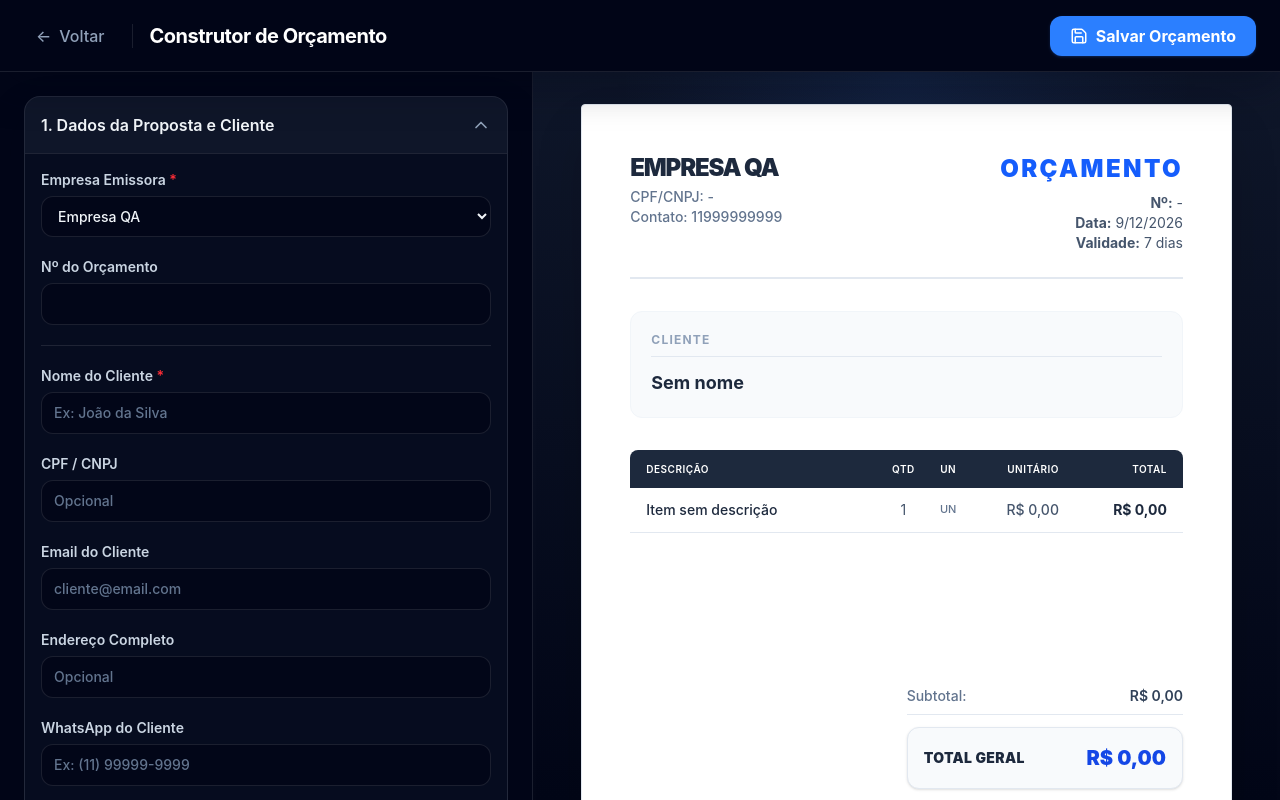
Test: BudgetPage validation flows › blocks saving when all items are removed
Step 1. Type "Cliente QA" into the field labelled "Nome do Cliente *" → (266, 413), box [41,392,491,434]
(page scrolled)
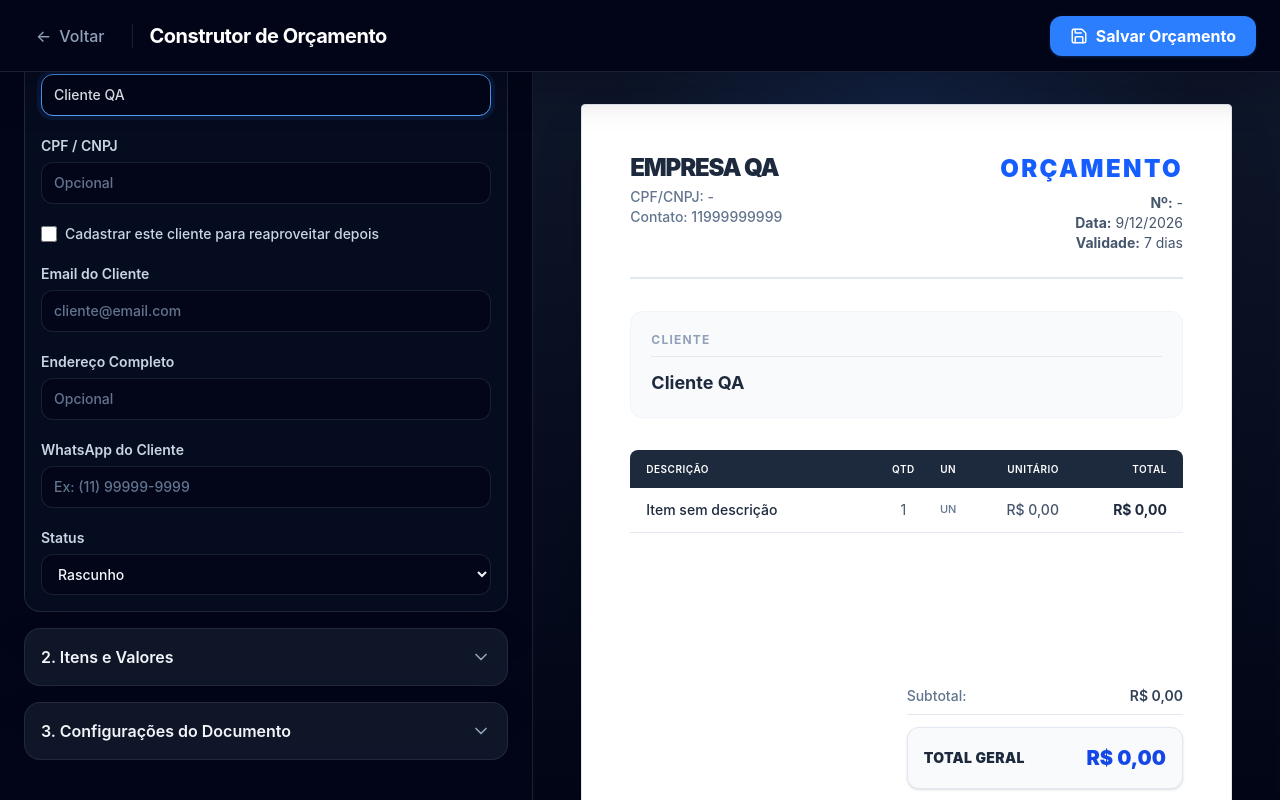
Step 2. Click the button "2. Itens e Valores" → (107, 657), box [25,629,507,685]
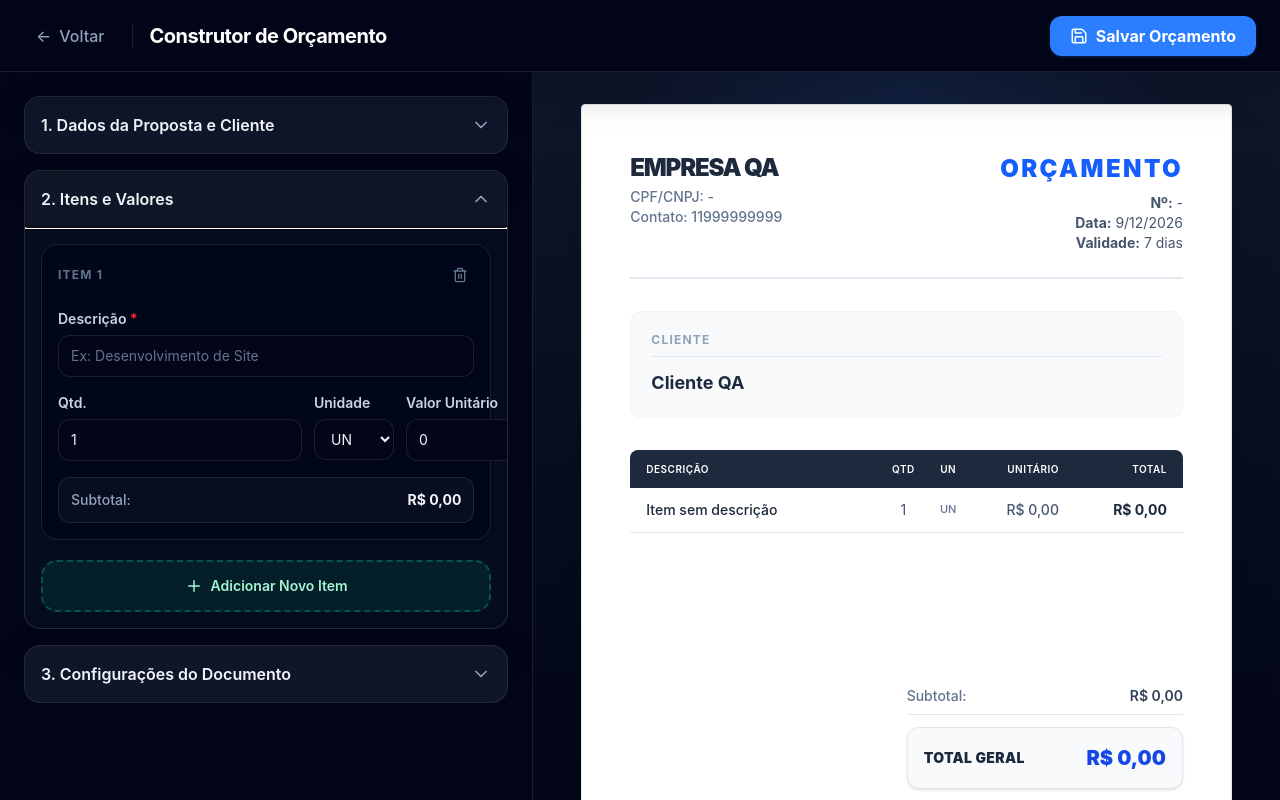
Step 3. Click the button titled "Remover item" → (460, 275), box [446,261,474,289]
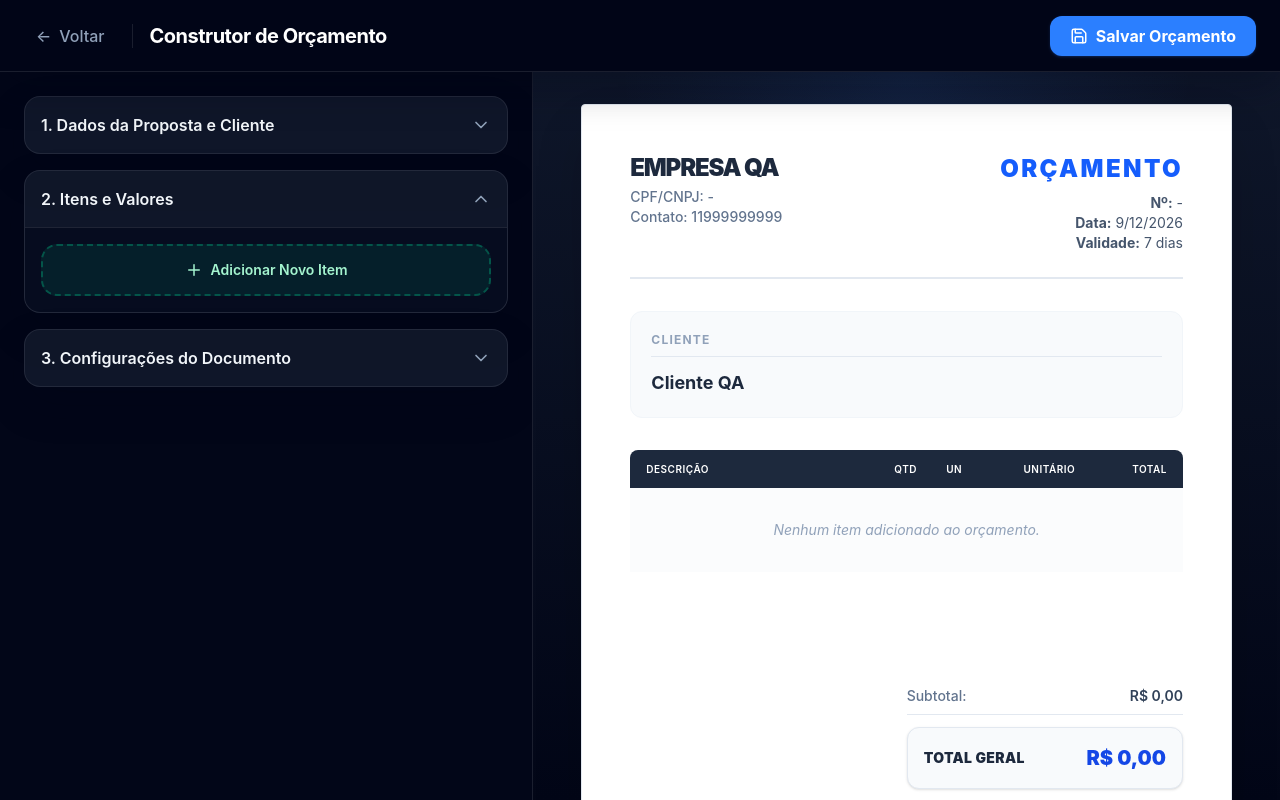
Step 4. Click the button "Salvar Orçamento" → (1153, 36), box [1050,16,1256,56]
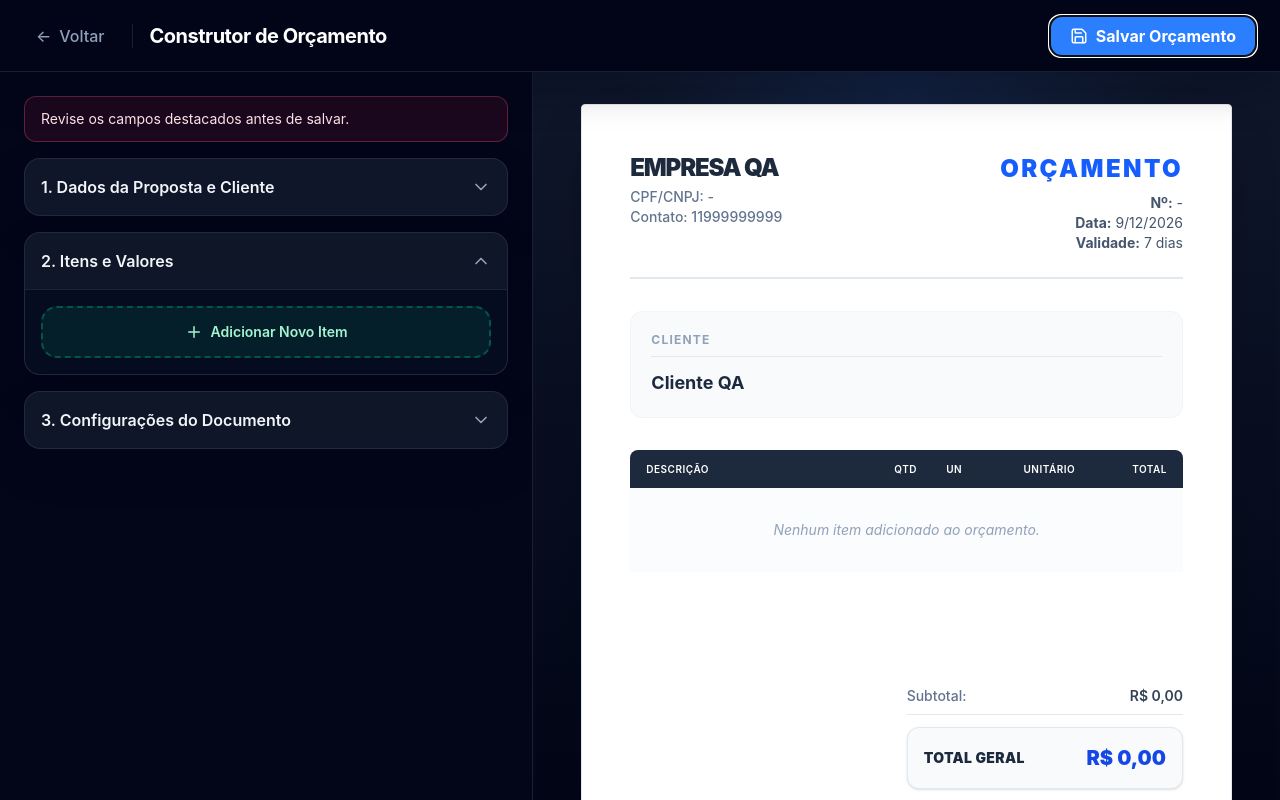
Now the text "Nenhum item adicionado ao orçamento." is shown, box [630,488,1183,572]
Now the text "Revise os campos destacados antes de salvar." is shown, box [24,96,508,142]
